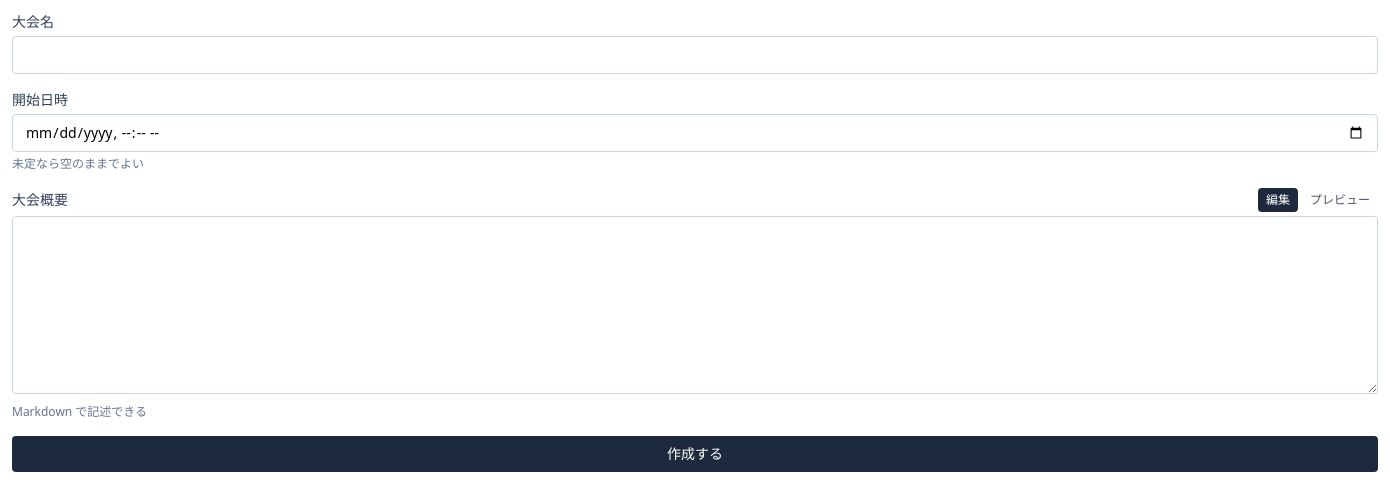
Test: TournamentForm › 概要が空のままプレビューするとプレースホルダを出す
Click the button "プレビュー": (1340, 200) [1302, 188, 1378, 212]
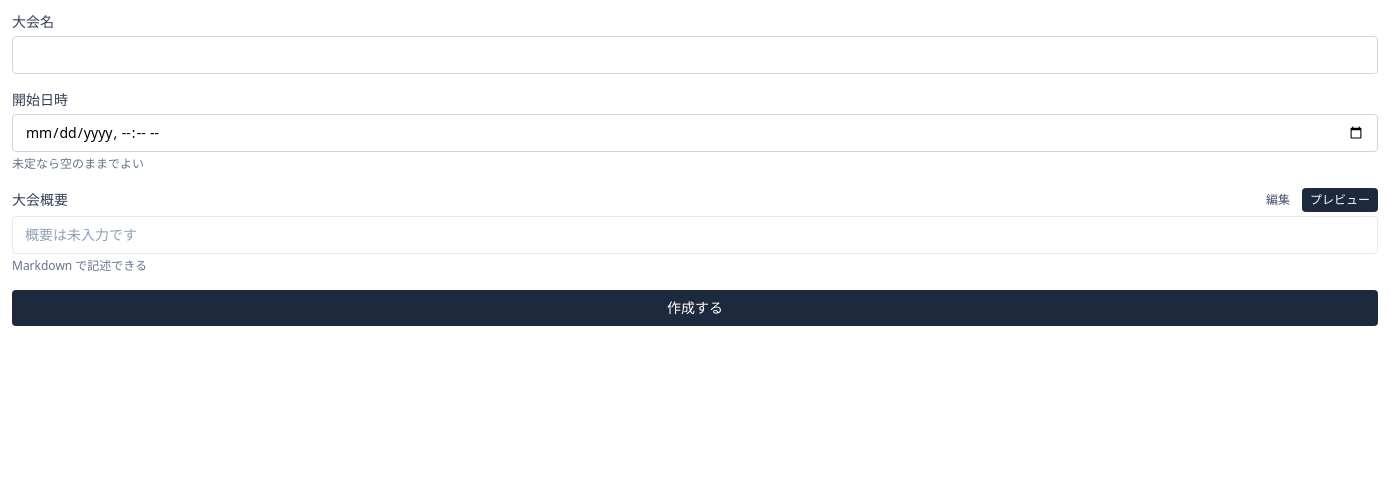
Expected: the text "概要は未入力です" is shown, [12, 216, 1378, 254]
